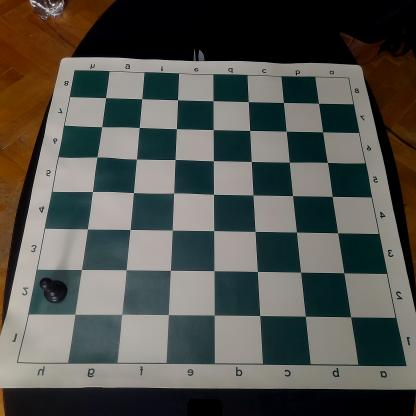black-pawn: (39, 274, 69, 305)
